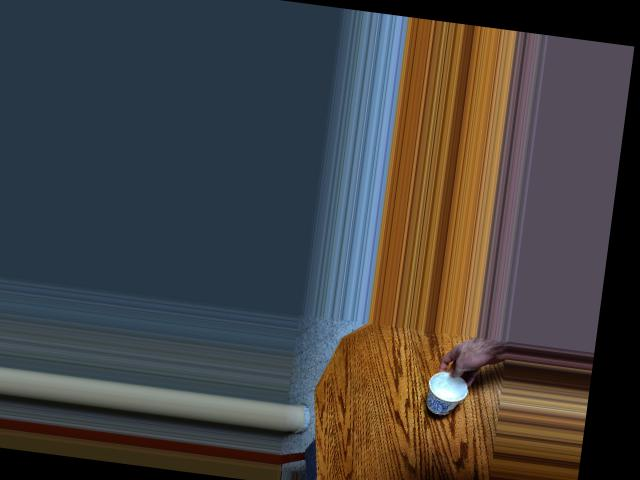cotage: (425, 369, 462, 415)
